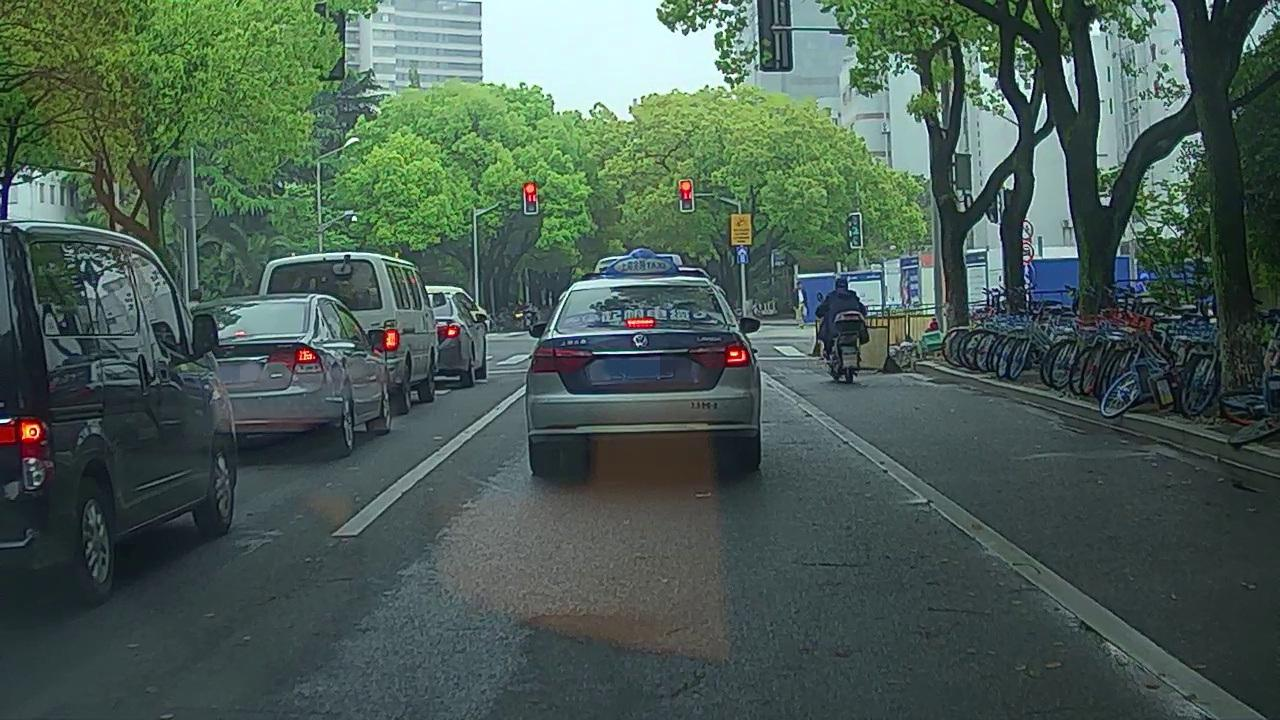traffic_light: (523, 179, 537, 213), (679, 180, 693, 211)
